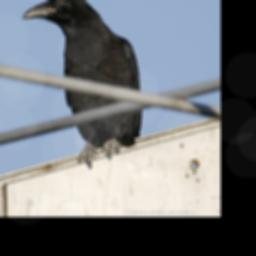Crow: (21, 0, 145, 168)
